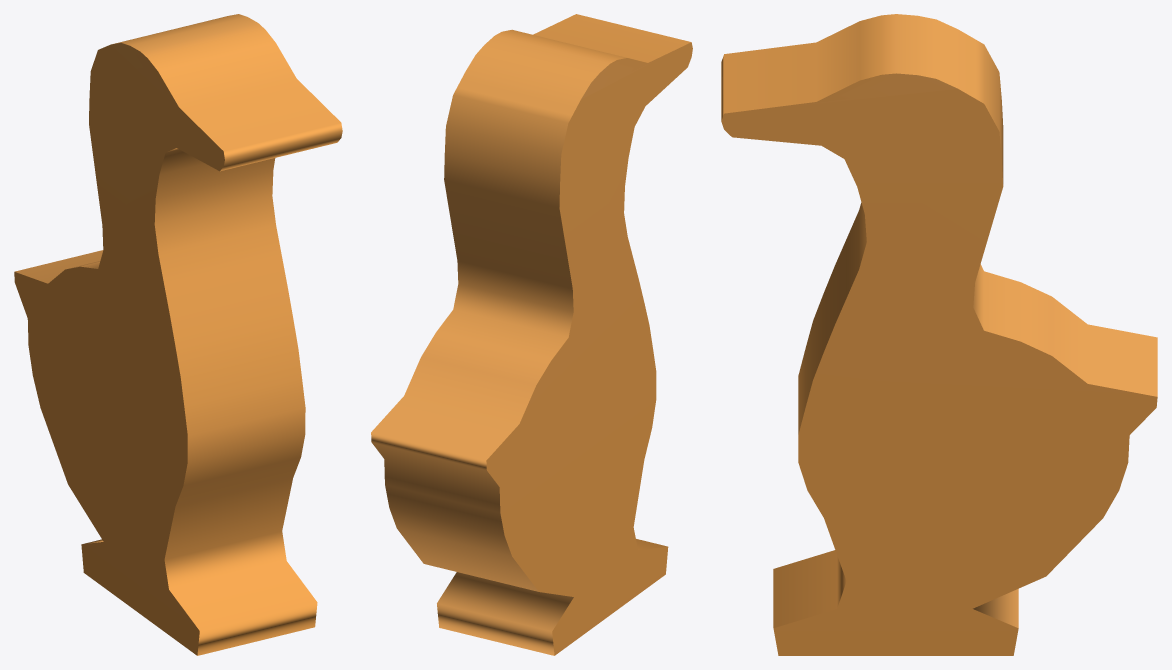
File: Gans Orange.fbx
3 renders of one model, left to right at view 1: azimuth 30°, elevation 25°; view 2: azimuth 150°, elevation 25°; view 3: azimuth 270°, elevation 25°, orthographic. The views are drawn at different scales.
Visible parts, largest first — view 1: pCube1; view 2: pCube1; view 3: pCube1.
Part boxes in pixels (box(x1,y1,x2,y2)): pCube1: box(14, 14, 342, 655); pCube1: box(371, 14, 692, 655); pCube1: box(721, 14, 1157, 655).
Bounding box in the file's own units: 0.3124 × 1.43 × 0.9687.
Materials: 1 (1 with a texture image).
